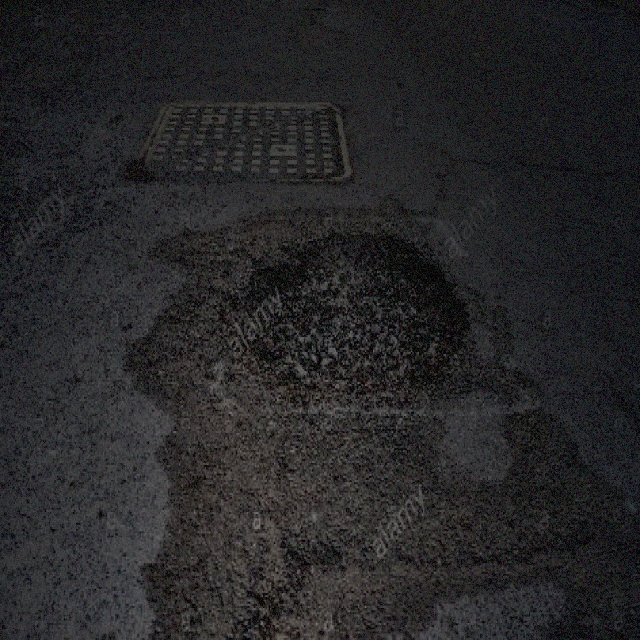pothole: (214, 226, 471, 401)
